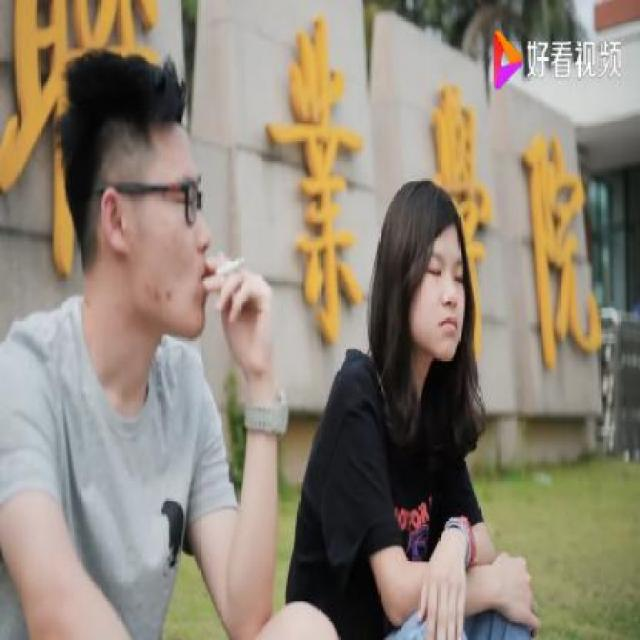cigarette: (205, 248, 249, 290)
